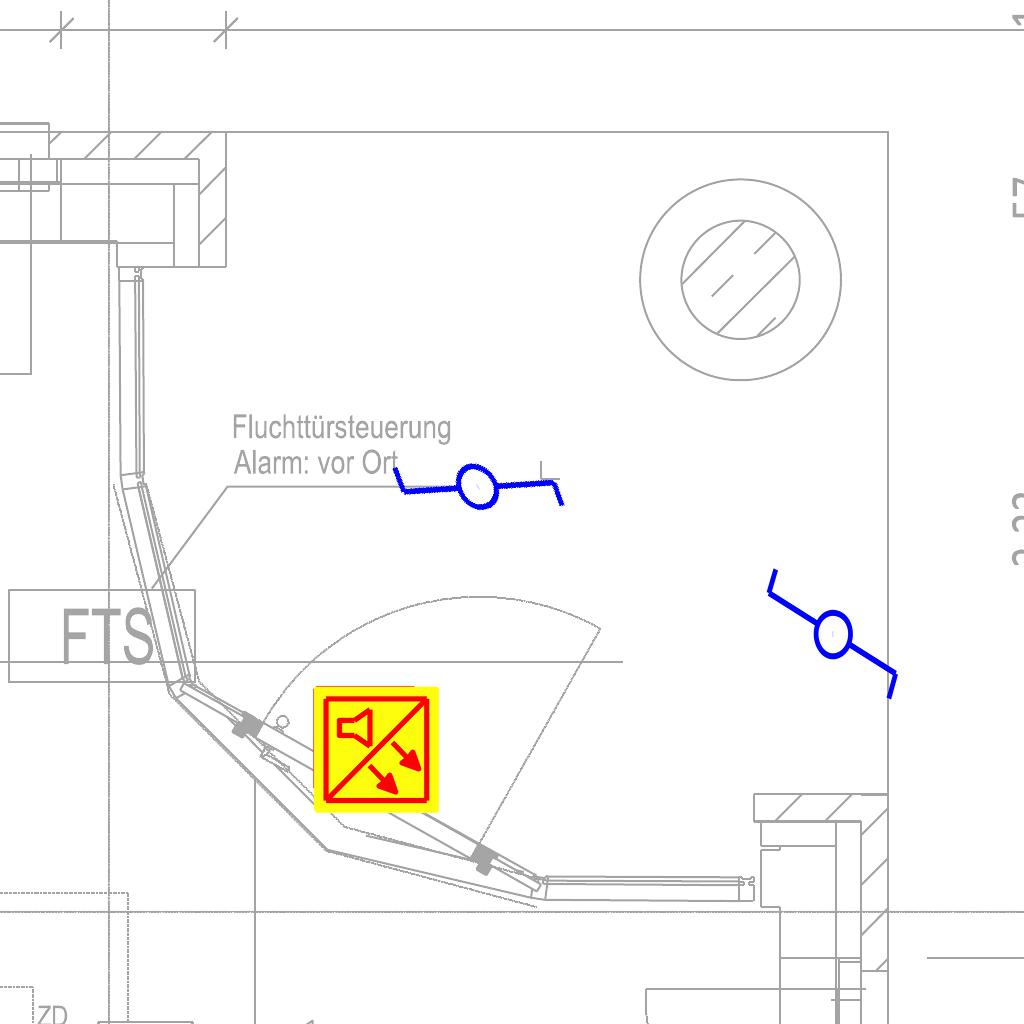OKW_Multisensormelder_(Kombination_optischer_Rauch-Kahlenmonoxid_Waerme-Melder): (310, 684, 442, 816)
Wechselschalter: (370, 373, 579, 585), (759, 564, 903, 721)
